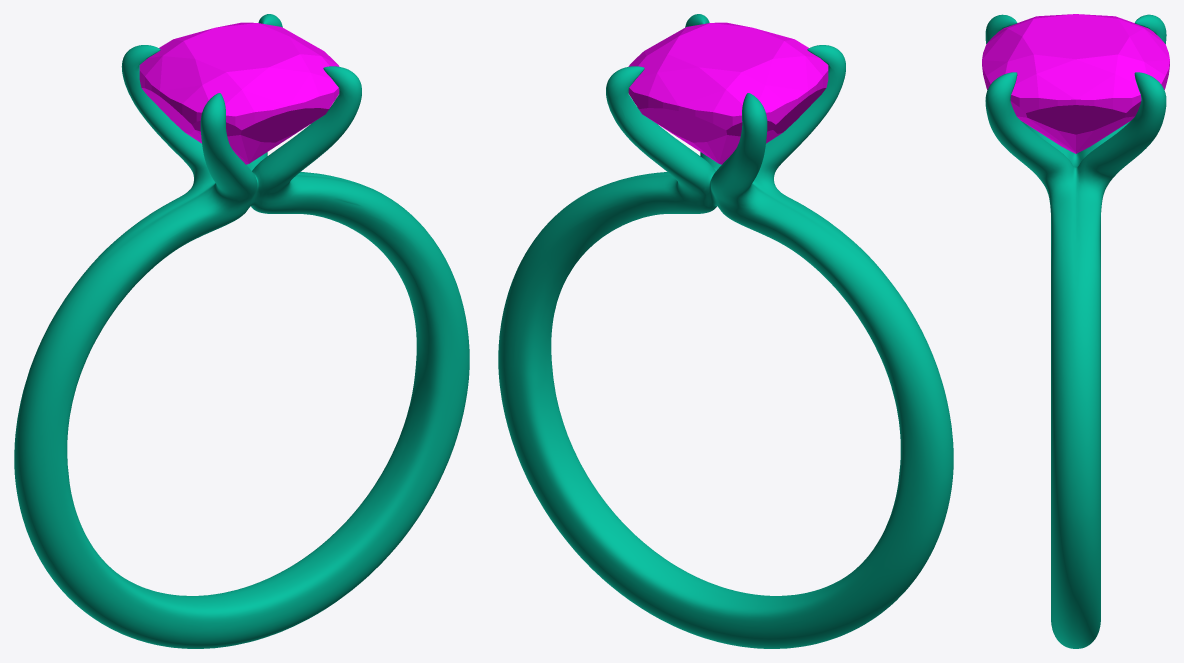
Rendered from BE1443_CU_200ct_RENDER.glb.
3 views of the same model, side by side, from view 1: azimuth 30°, elevation 25°; view 2: azimuth 150°, elevation 25°; view 3: azimuth 270°, elevation 25° (orthographic).
Parts seen in each view (by area): view 1: Metal 01, CS_Diamond_Cushion; view 2: Metal 01, CS_Diamond_Cushion; view 3: Metal 01, CS_Diamond_Cushion.
Part boxes in pixels (x1=…): Metal 01: x1=14, y1=14, x2=469, y2=648; CS_Diamond_Cushion: x1=139, y1=22, x2=339, y2=164; Metal 01: x1=498, y1=14, x2=953, y2=648; CS_Diamond_Cushion: x1=628, y1=22, x2=828, y2=164; Metal 01: x1=985, y1=14, x2=1166, y2=648; CS_Diamond_Cushion: x1=982, y1=14, x2=1169, y2=153.
Bounding box in the file's own units: 20.49 × 25.9 × 7.5.
